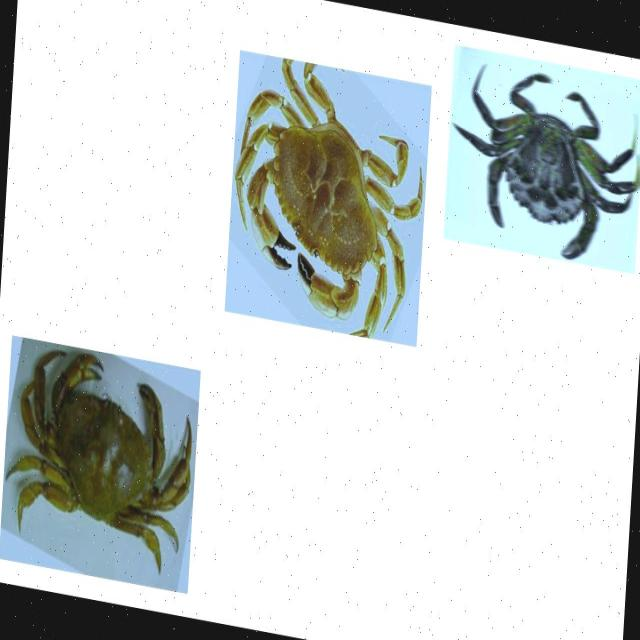egc: (452, 62, 640, 259)
